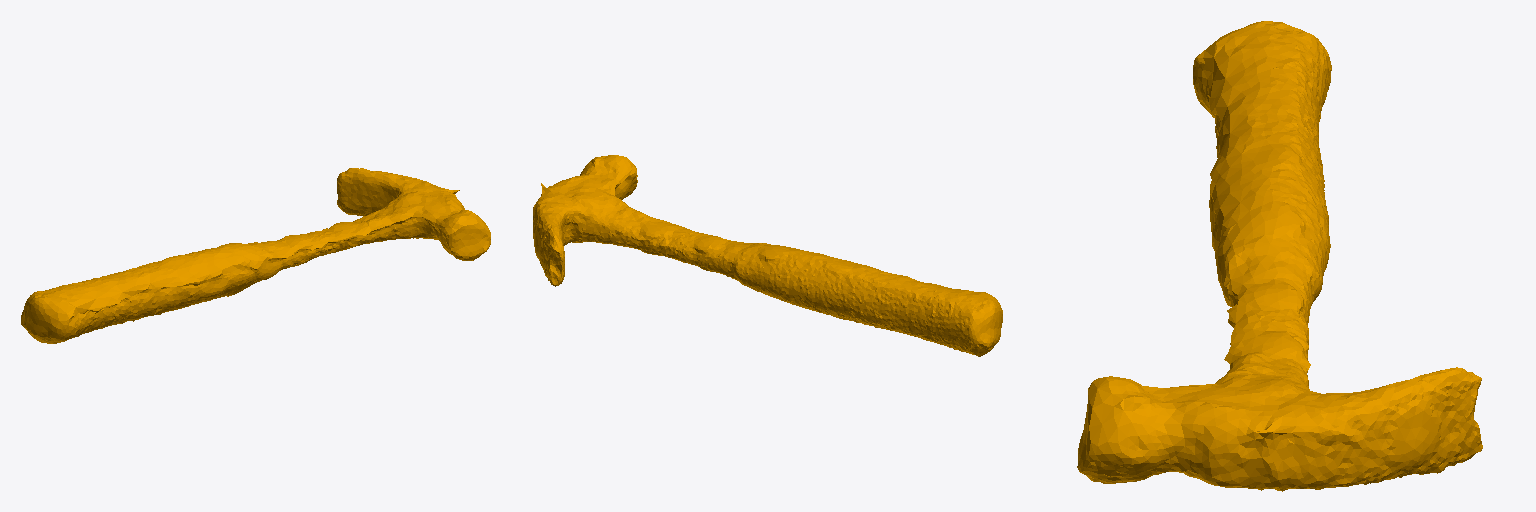
URDF robot description (hammer_002_scanned):
<?xml version="1.0"?>
<!-- Lab hammer (DexFunGrasp CoRL/traj_obj/hammer_002_scanned), re-framed to the
     claw_hammer axis convention (handle -x..0, head at +x, claw toward +y) via
     deployment/hammer_002_scanned_reframe.json. The FP tracker uses the ORIGINAL
     textured scan; the relay applies the re-frame so poses arrive in THIS frame. -->
<robot name="hammer_002_scanned">
  <link name="hammer_002_scanned">
    <visual>
      <origin xyz="0 0 0" rpy="0 0 0"/>
      <geometry>
        <mesh filename="hammer_002_scanned.obj" scale="1 1 1"/>
      </geometry>
    </visual>
    <collision>
      <origin xyz="0 0 0" rpy="0 0 0"/>
      <geometry>
        <mesh filename="hammer_002_scanned.obj" scale="1 1 1"/>
      </geometry>
    </collision>
    <inertial>
      <density value="400.0"/>
    </inertial>
  </link>
</robot>

--- What the picture shows (computed from the rendered views, not written in the file) ---
The picture shows the robot from 3 angles, left to right: view 1: azimuth 30°, elevation 25°; view 2: azimuth 150°, elevation 25°; view 3: azimuth 270°, elevation 25°; orthographic projection.
Robot: hammer_002_scanned — 1 links, 0 joints (none); root link hammer_002_scanned; default pose: every joint at zero.
Links seen in each view (by area): view 1: hammer_002_scanned; view 2: hammer_002_scanned; view 3: hammer_002_scanned.
Boxes of the visible links, x1,y1,x2,y2 form: hammer_002_scanned: (21, 168, 490, 343); hammer_002_scanned: (533, 155, 1002, 356); hammer_002_scanned: (1077, 21, 1482, 491).
Size in the robot's own frame: 0.2896 by 0.1131 by 0.0398 metres.
1 mesh visuals loaded from 1 distinct referenced files (1 OBJ).
